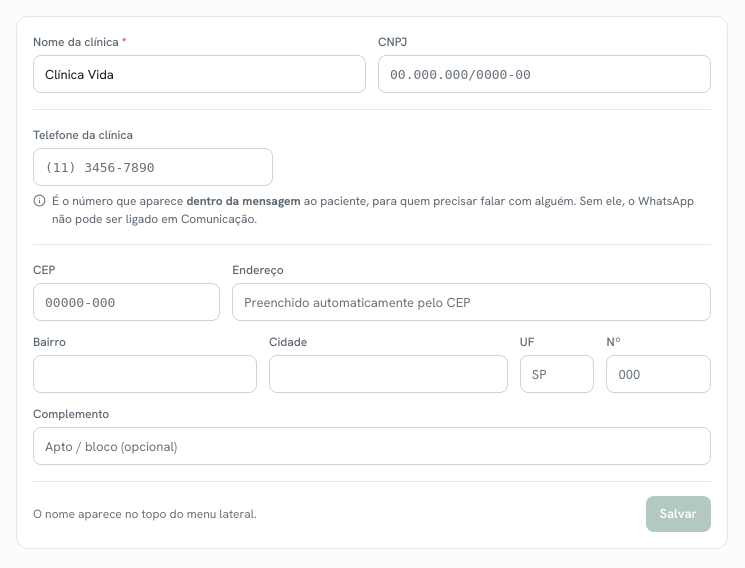
Clínica — edição (owner/admin) › CNPJ válido mascara o campo e habilita o Salvar (edição válida)
The width and height of the screenshot is (745, 568).
Type "12abc34501de35" into the field labelled "CNPJ" at (544, 74), box [378, 55, 711, 93]
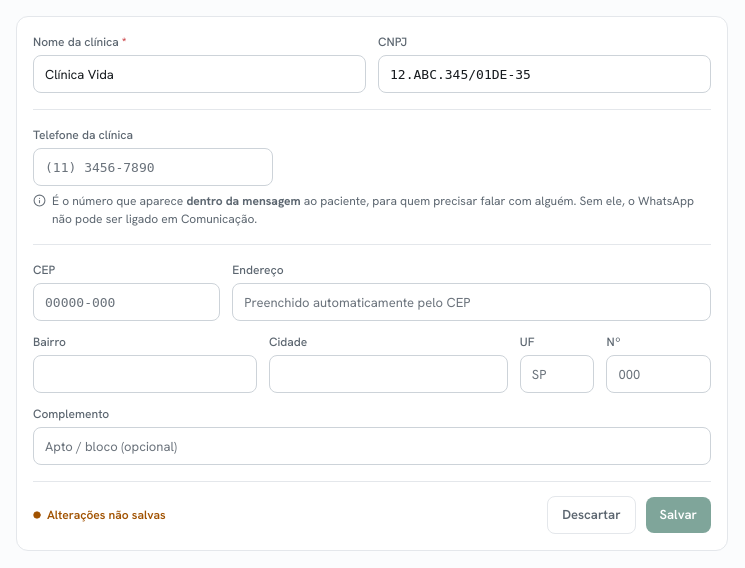
Expected: the field labelled "CNPJ" holds "12.ABC.345/01DE-35", [378, 55, 711, 93]
Expected: the button "Salvar" is enabled, [646, 497, 711, 532]
